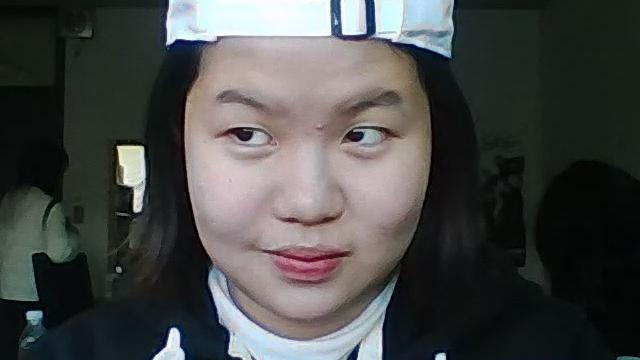eye: (234, 124, 253, 141), (345, 125, 362, 140)
iris: (339, 126, 388, 145), (228, 128, 275, 144)
